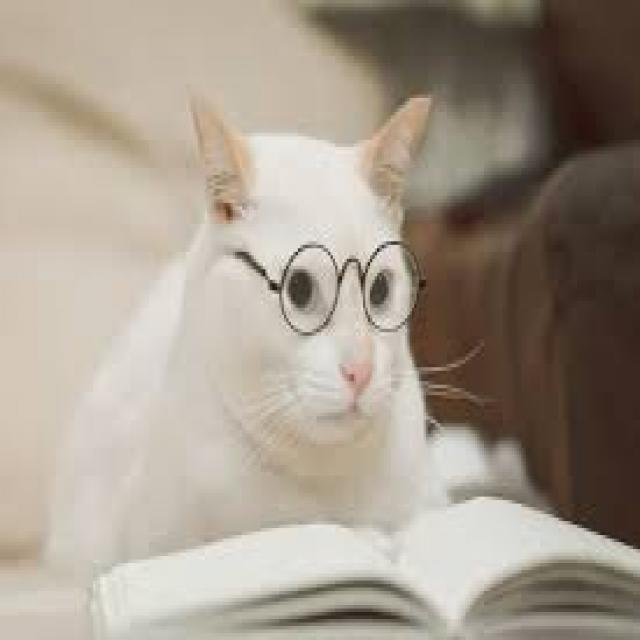Cat: (41, 82, 460, 574)
